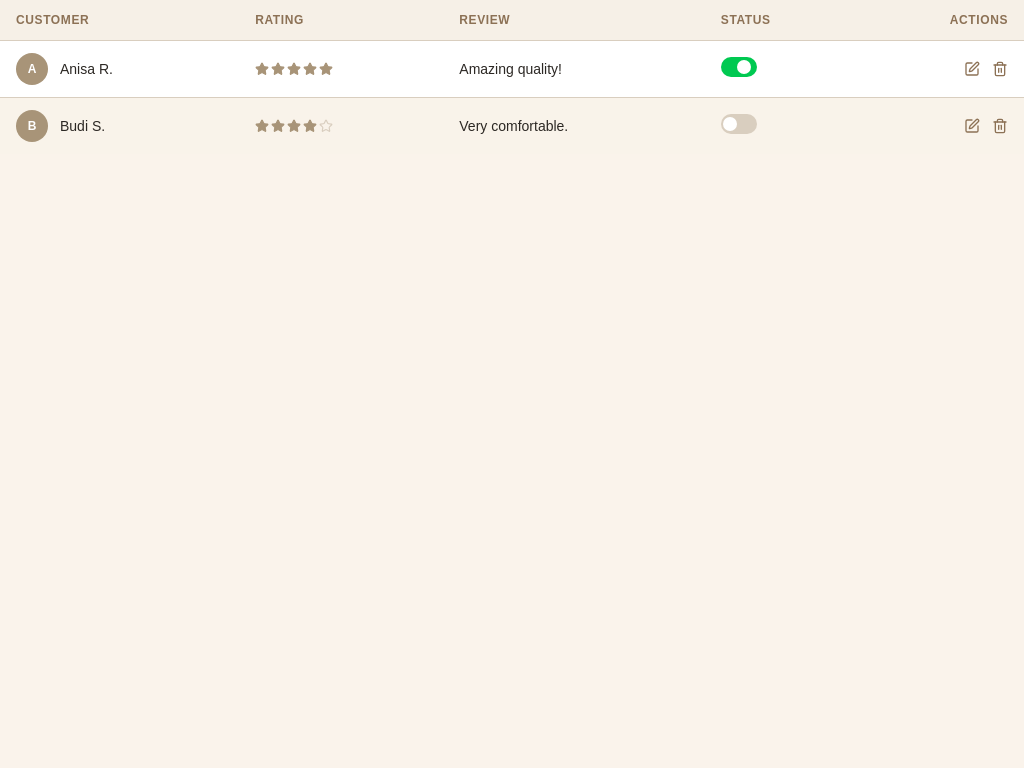
Test: TestimonialsTable › shows confirm dialog when delete clicked
What coordinates should you click on to do the following:
click the button titled "Delete testimonial" in the row of "Anisa R."
I would click on:
 (1000, 69)
Its box is [992, 61, 1008, 77].
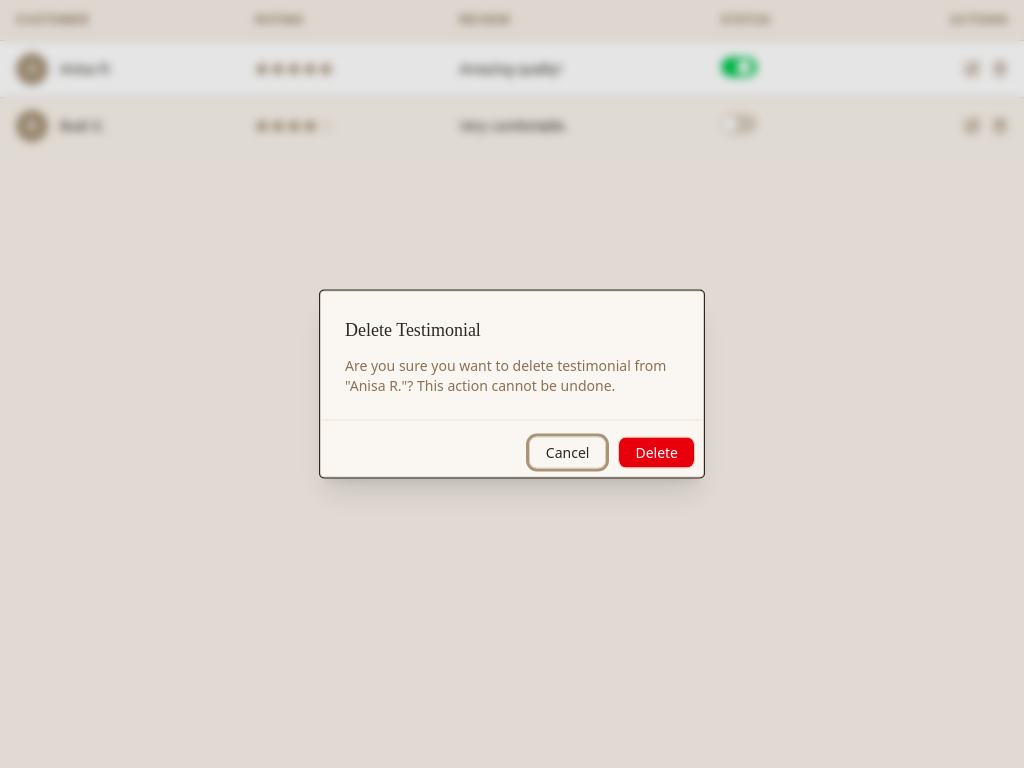
Result: the heading "Delete Testimonial" is shown at [345, 316, 481, 344]
